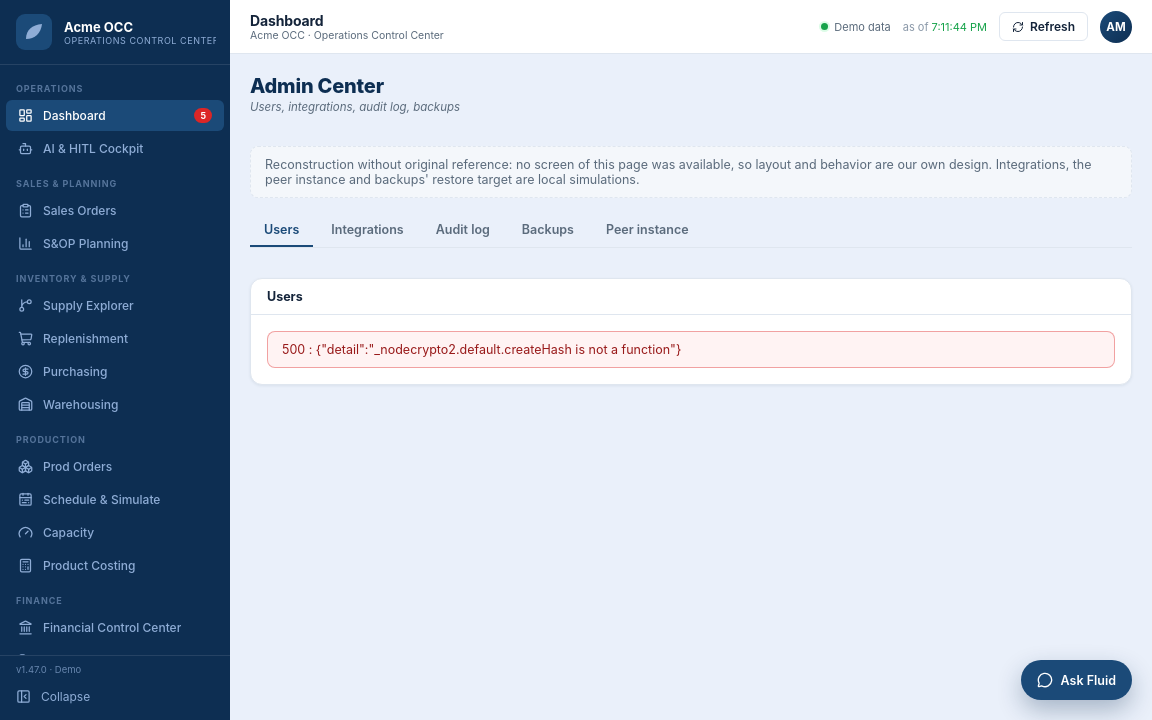
Test: Admin Center › deletes a backup and starts a simulated peer
Click the tab "Backups" at point(548, 230), box [508,214,588,247]
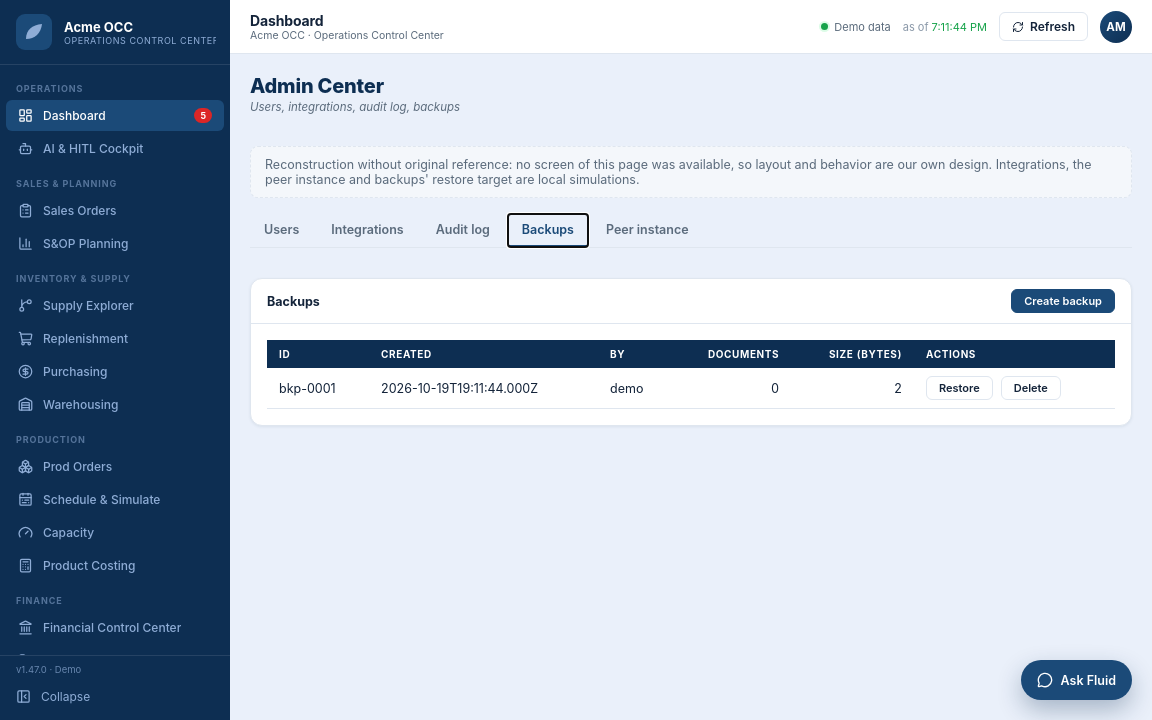
Click the button with aria-label "Delete bkp-0001" at point(1031, 388), box [1001,376,1061,400]
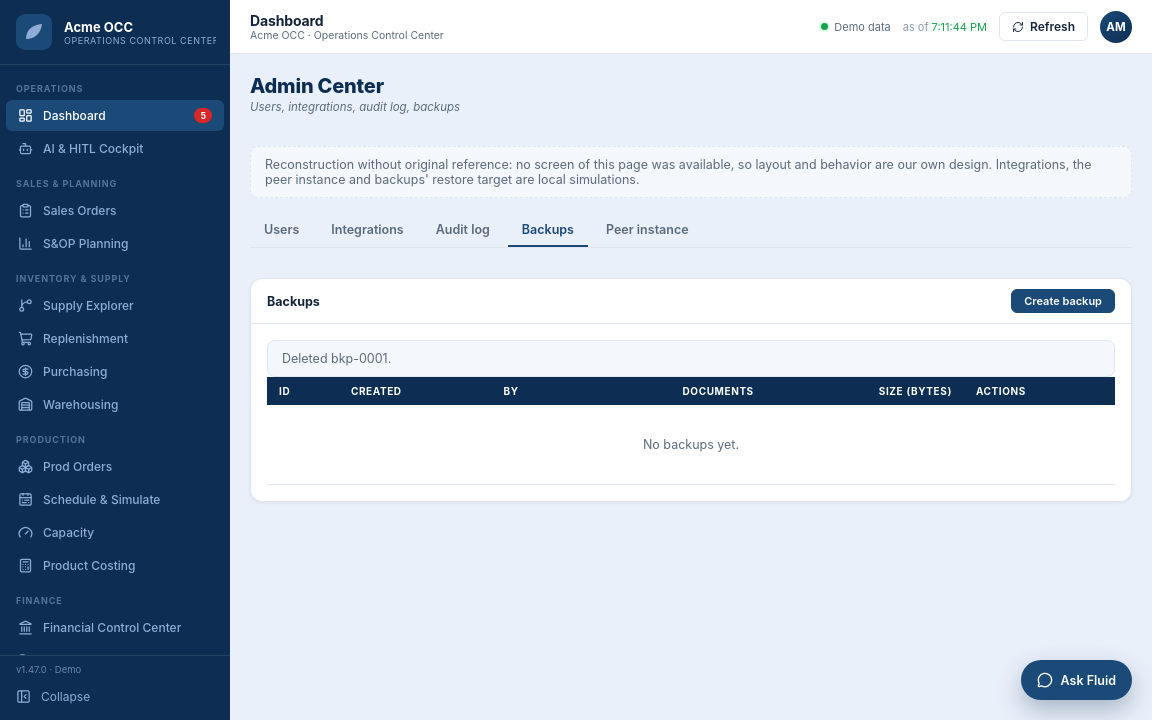
Expected: the text "No backups yet." is shown, [267,405,1115,484]
Click the tab "Peer instance" at point(647, 230), box [592,214,703,247]
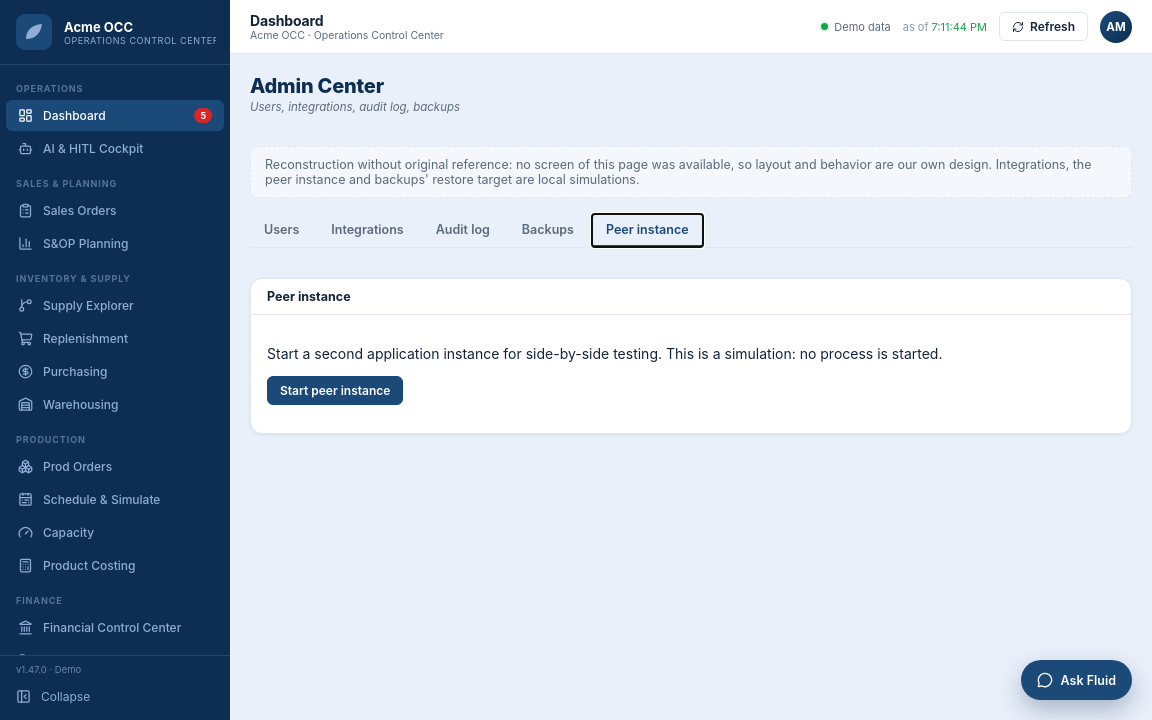
Click the button "Start peer instance" at point(335, 390), box [267,376,403,405]
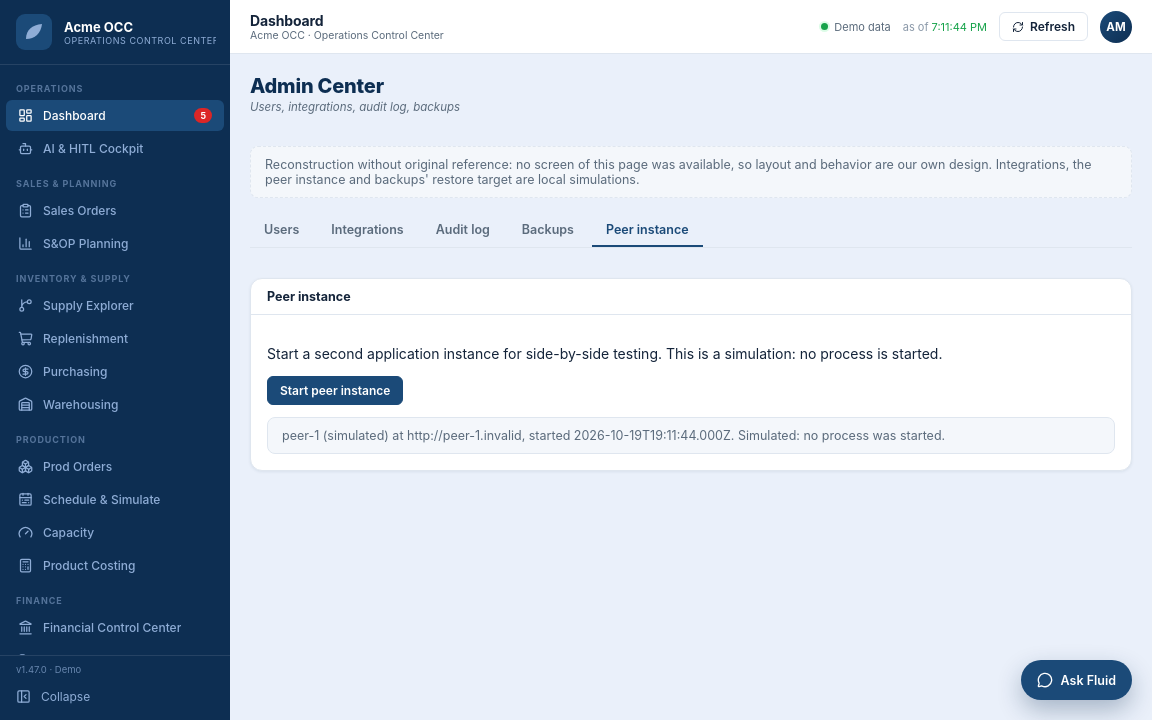
Expected: the message with test id "peer-result" shows "peer-1 (simulated)", [267,417,1115,454]
